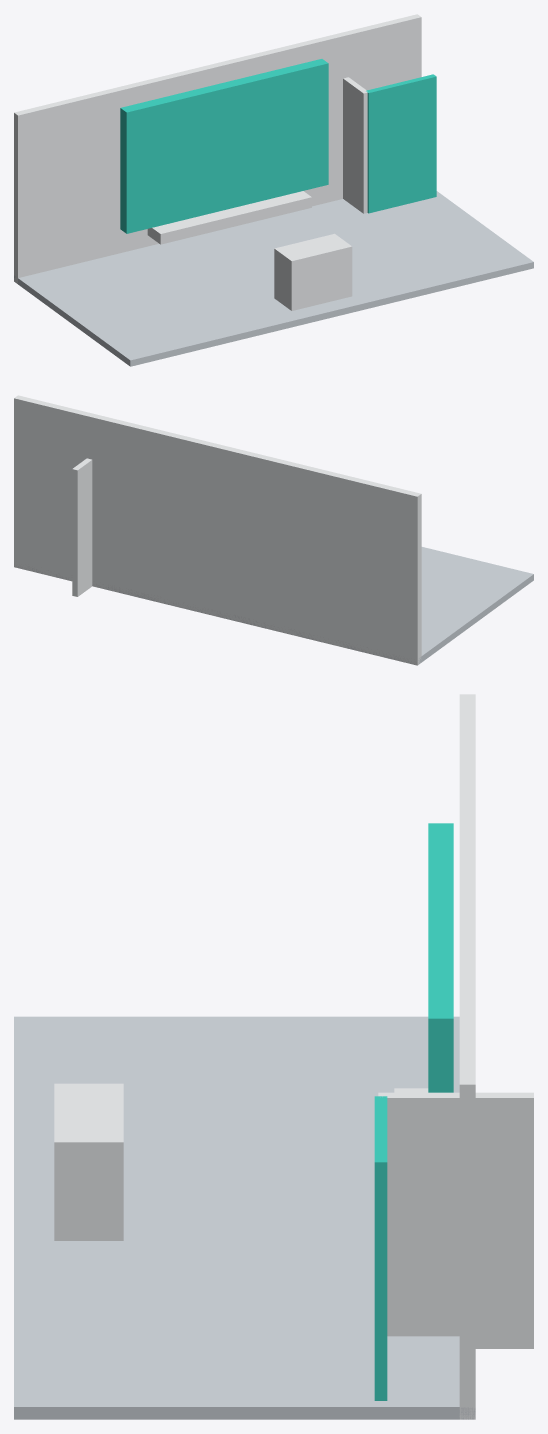
3 views of the same model, one above another, from view 1: azimuth 30°, elevation 25°; view 2: azimuth 150°, elevation 25°; view 3: azimuth 270°, elevation 25° (orthographic). The views are drawn at different scales.
Parts seen in each view (by area): view 1: Exhibition Booth Concept; view 2: Exhibition Booth Concept; view 3: Exhibition Booth Concept.
Boxes of the visible parts, bbox=[...] form: Exhibition Booth Concept: bbox=[14, 14, 533, 366]; Exhibition Booth Concept: bbox=[14, 395, 533, 665]; Exhibition Booth Concept: bbox=[14, 694, 533, 1419].
Size of the model in its own units: 8 by 3.2 by 4.51.
